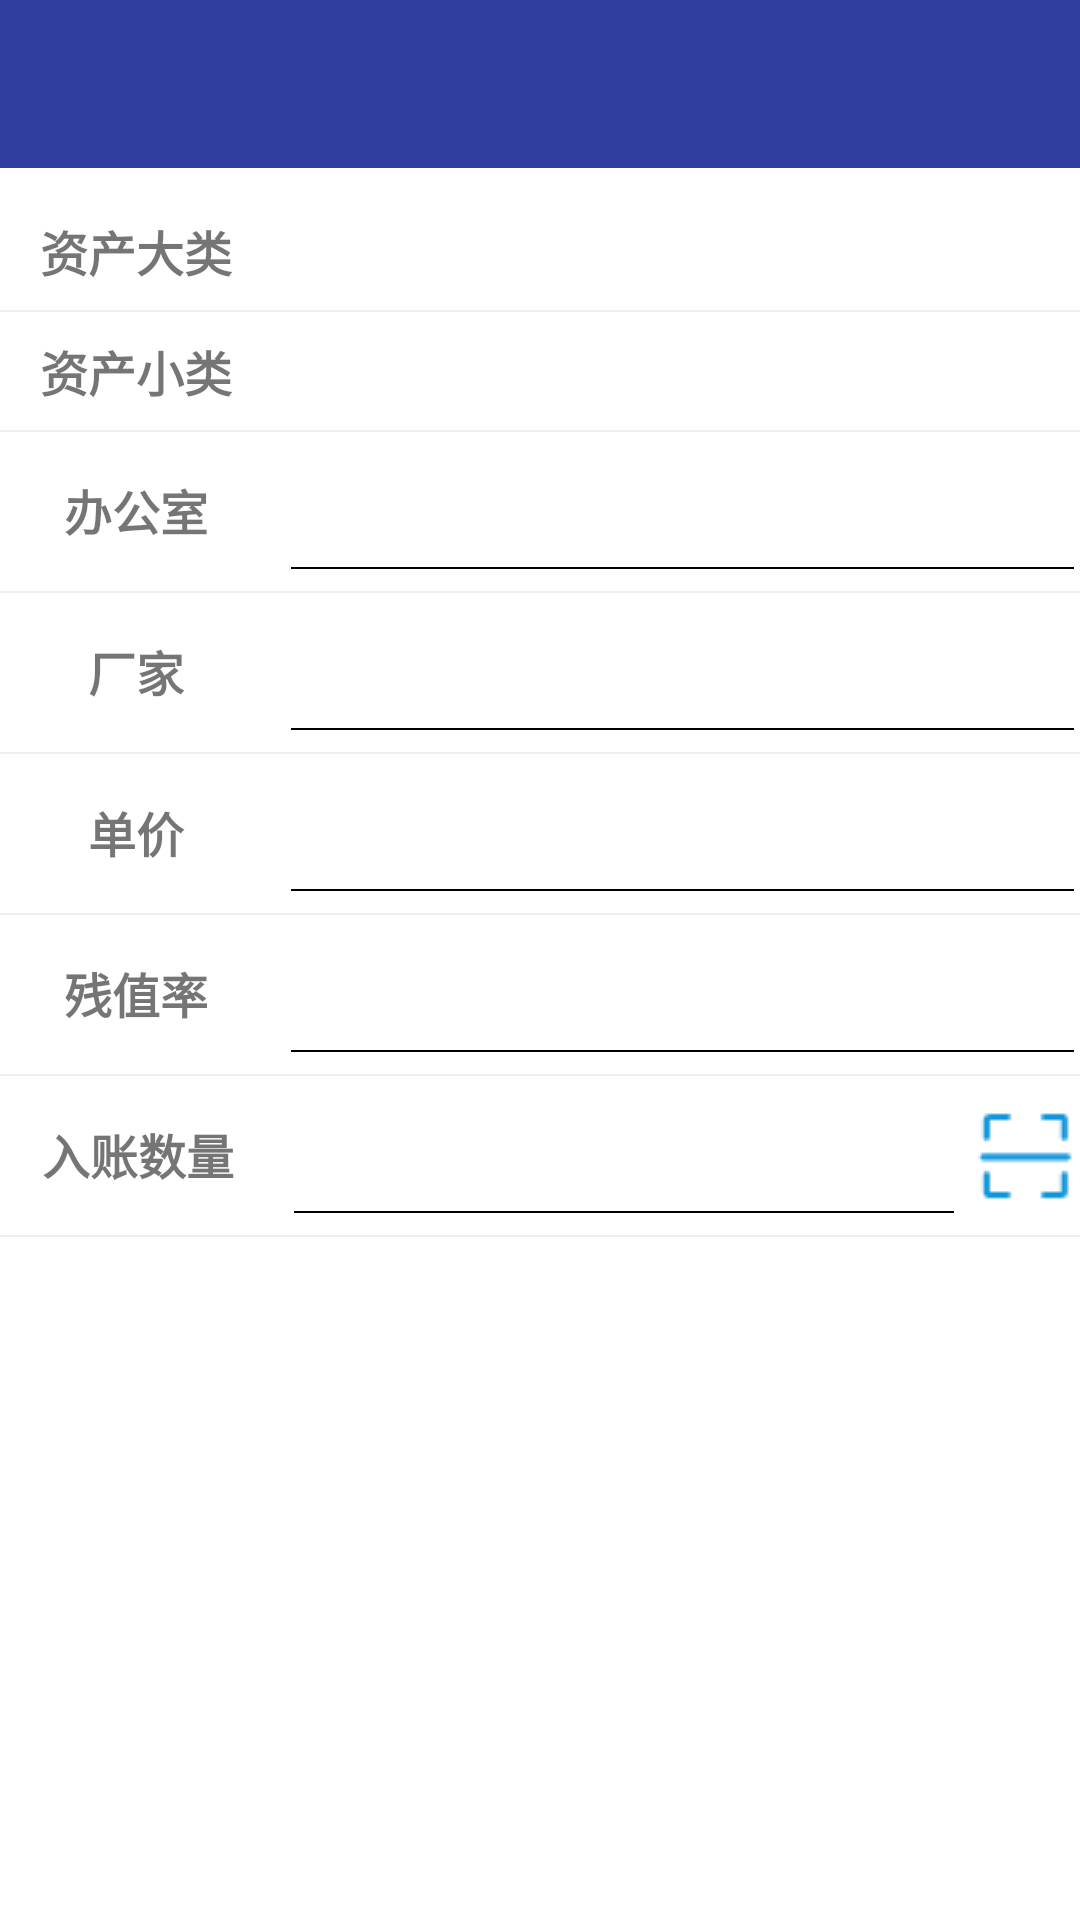

Where icons sit on this 1080*1920 app screen, as [left=x1, top=y1, right=x2, bottom=y2]:
scan: [left=978, top=1113, right=1072, bottom=1199]
